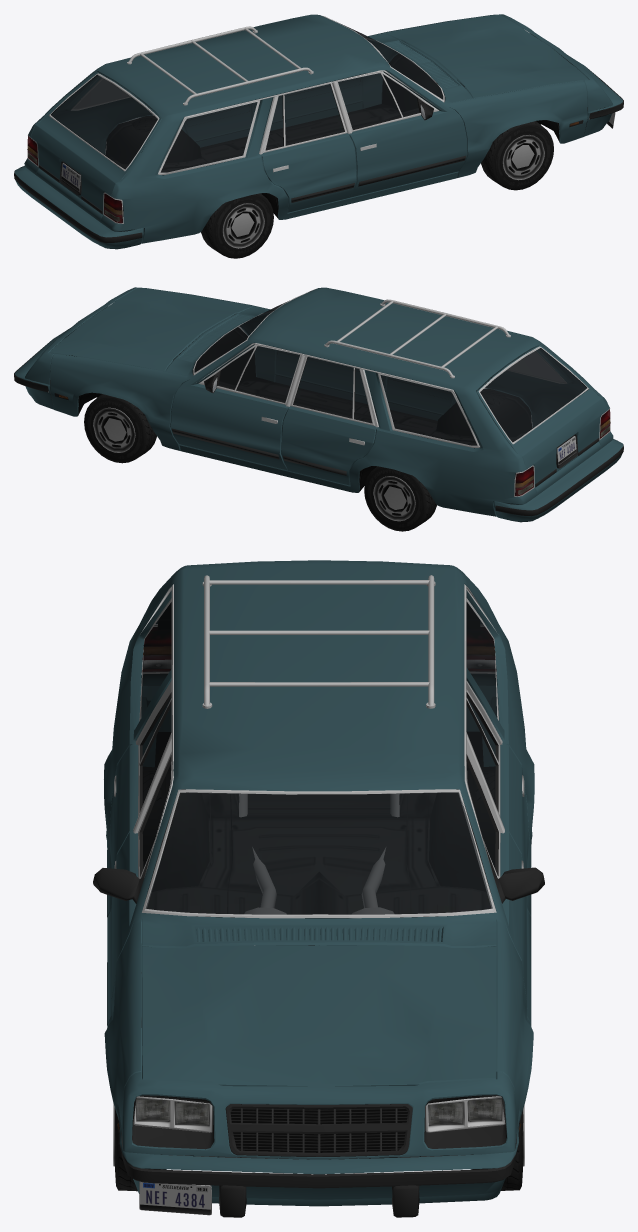
The model's file is wagon_lod.gltf.
The picture shows the model from 3 angles, top to bottom: view 1: azimuth 30°, elevation 25°; view 2: azimuth 150°, elevation 25°; view 3: azimuth 270°, elevation 25°; orthographic projection. The views are drawn at different scales.
Parts seen in each view (by area): view 1: Fairheaven_SW80_body001_Fairheaven_LT80_Bodymat_0, Fairheaven_LT84_Hood001_Fairheaven_LT80_Bodymat_0, Fairheaven_SW80_Glass_Body001_UCB_Lights_and_Glass_Transpere, Fairheaven_LT80_Bottom006_UCB_BOTTOM_GT_0, Fairheaven_SW80_Glass_Rear001_UCB_Lights_and_Glass_Transpere, Fairheaven_SW84_Trim_UCB_BOTTOM_GT_0, Fairheaven_LT80_Trunkdoor001_Fairheaven_LT80_Bodymat_0, Fairheaven_LT80_WheelStock_FR002_RB1c_Tire_1k_0, Fairheaven_LT80_WheelStock_RR002_RB1c_Tire_1k_0, Fairheaven_LT80_Glass_Passanger007_UCB_Lights_and_Glass_Tran, Fairheaven_LT84_Bumper_Rear001_Fairheaven_LT80_Bodymat_0, Fairheaven_SW80_Roofrack001_UCB_BOTTOM_GT_0 (+8 smaller); view 2: Fairheaven_SW80_body001_Fairheaven_LT80_Bodymat_0, Fairheaven_LT84_Hood001_Fairheaven_LT80_Bodymat_0, Fairheaven_SW80_Glass_Body001_UCB_Lights_and_Glass_Transpere, Fairheaven_LT80_Bottom006_UCB_BOTTOM_GT_0, Fairheaven_SW80_Glass_Rear001_UCB_Lights_and_Glass_Transpere, Fairheaven_SW84_Trim_UCB_BOTTOM_GT_0, Fairheaven_LT80_Trunkdoor001_Fairheaven_LT80_Bodymat_0, Fairheaven_LT80_WheelStock_FL002_RB1c_Tire_1k_0, Fairheaven_LT80_WheelStock_RL002_RB1c_Tire_1k_0, Fairheaven_LT80_Glass_Driver007_UCB_Lights_and_Glass_Transpe, Fairheaven_LT84_Bumper_Rear001_Fairheaven_LT80_Bodymat_0, Fairheaven_SW80_Roofrack001_UCB_BOTTOM_GT_0 (+8 smaller); view 3: Fairheaven_SW80_body001_Fairheaven_LT80_Bodymat_0, Fairheaven_LT84_Hood001_Fairheaven_LT80_Bodymat_0, Fairheaven_LT80_Bottom006_UCB_BOTTOM_GT_0, Fairheaven_LT80_Windshield006_UCB_Lights_and_Glass_Transpere, Fairheaven_LT84_Front_Plate_Inner001_UCB_BOTTOM_GT_0, Fairheaven_SW84_Trim_UCB_BOTTOM_GT_0, Fairheaven_LT84_Front_Plate001_Fairheaven_LT80_Bodymat_0, Fairheaven_LT84_Bumper_front001_Fairheaven_LT80_Bodymat_0, Fairheaven_LT84_Bumper_front_Inner001_UCB_BOTTOM_GT_0, Fairheaven_SW80_Glass_Body001_UCB_Lights_and_Glass_Transpere, Fairheaven_SW80_Roofrack001_UCB_BOTTOM_GT_0, Fairheaven_LT84_Headlights_Glass001_UCB_Lights_and_Glass_Tra (+5 smaller).
Boxes of the visible parts, bbox=[...] form: Fairheaven_SW80_body001_Fairheaven_LT80_Bodymat_0: bbox=[24, 14, 587, 243]; Fairheaven_LT84_Hood001_Fairheaven_LT80_Bodymat_0: bbox=[384, 15, 588, 98]; Fairheaven_SW80_Glass_Body001_UCB_Lights_and_Glass_Transpere: bbox=[75, 79, 344, 172]; Fairheaven_LT80_Bottom006_UCB_BOTTOM_GT_0: bbox=[105, 42, 583, 218]; Fairheaven_SW80_Glass_Rear001_UCB_Lights_and_Glass_Transpere: bbox=[50, 74, 157, 169]; Fairheaven_SW84_Trim_UCB_BOTTOM_GT_0: bbox=[27, 16, 465, 223]; Fairheaven_LT80_Trunkdoor001_Fairheaven_LT80_Bodymat_0: bbox=[31, 72, 161, 214]; Fairheaven_LT80_WheelStock_FR002_RB1c_Tire_1k_0: bbox=[481, 121, 553, 190]; Fairheaven_LT80_WheelStock_RR002_RB1c_Tire_1k_0: bbox=[201, 193, 273, 258]; Fairheaven_LT80_Glass_Passanger007_UCB_Lights_and_Glass_Tran: bbox=[338, 73, 419, 129]; Fairheaven_LT84_Bumper_Rear001_Fairheaven_LT80_Bodymat_0: bbox=[14, 166, 143, 249]; Fairheaven_SW80_Roofrack001_UCB_BOTTOM_GT_0: bbox=[127, 26, 313, 105]; Fairheaven_SW80_body001_Fairheaven_LT80_Bodymat_0: bbox=[50, 287, 613, 516]; Fairheaven_LT84_Hood001_Fairheaven_LT80_Bodymat_0: bbox=[49, 288, 252, 371]; Fairheaven_SW80_Glass_Body001_UCB_Lights_and_Glass_Transpere: bbox=[294, 352, 563, 445]; Fairheaven_LT80_Bottom006_UCB_BOTTOM_GT_0: bbox=[54, 314, 531, 491]; Fairheaven_SW80_Glass_Rear001_UCB_Lights_and_Glass_Transpere: bbox=[480, 348, 587, 442]; Fairheaven_SW84_Trim_UCB_BOTTOM_GT_0: bbox=[172, 289, 610, 496]; Fairheaven_LT80_Trunkdoor001_Fairheaven_LT80_Bodymat_0: bbox=[476, 345, 606, 487]; Fairheaven_LT80_WheelStock_FL002_RB1c_Tire_1k_0: bbox=[84, 394, 156, 463]; Fairheaven_LT80_WheelStock_RL002_RB1c_Tire_1k_0: bbox=[364, 466, 436, 531]; Fairheaven_LT80_Glass_Driver007_UCB_Lights_and_Glass_Transpe: bbox=[218, 346, 299, 402]; Fairheaven_LT84_Bumper_Rear001_Fairheaven_LT80_Bodymat_0: bbox=[494, 439, 623, 522]; Fairheaven_SW80_Roofrack001_UCB_BOTTOM_GT_0: bbox=[324, 299, 510, 378]; Fairheaven_SW80_body001_Fairheaven_LT80_Bodymat_0: bbox=[104, 560, 534, 1128]; Fairheaven_LT84_Hood001_Fairheaven_LT80_Bodymat_0: bbox=[141, 945, 496, 1086]; Fairheaven_LT80_Bottom006_UCB_BOTTOM_GT_0: bbox=[117, 732, 521, 1159]; Fairheaven_LT80_Windshield006_UCB_Lights_and_Glass_Transpere: bbox=[145, 792, 492, 914]; Fairheaven_LT84_Front_Plate_Inner001_UCB_BOTTOM_GT_0: bbox=[132, 1095, 516, 1169]; Fairheaven_SW84_Trim_UCB_BOTTOM_GT_0: bbox=[93, 584, 544, 1025]; Fairheaven_LT84_Front_Plate001_Fairheaven_LT80_Bodymat_0: bbox=[121, 1071, 516, 1159]; Fairheaven_LT84_Bumper_front001_Fairheaven_LT80_Bodymat_0: bbox=[119, 1127, 518, 1206]; Fairheaven_LT84_Bumper_front_Inner001_UCB_BOTTOM_GT_0: bbox=[119, 1132, 518, 1217]; Fairheaven_SW80_Glass_Body001_UCB_Lights_and_Glass_Transpere: bbox=[141, 602, 497, 805]; Fairheaven_SW80_Roofrack001_UCB_BOTTOM_GT_0: bbox=[202, 575, 435, 708]; Fairheaven_LT84_Headlights_Glass001_UCB_Lights_and_Glass_Tra: bbox=[136, 1098, 501, 1125].
Size of the model in its own units: 5.03 by 1.4 by 1.85.
Materials: 6 (5 with a texture image).
